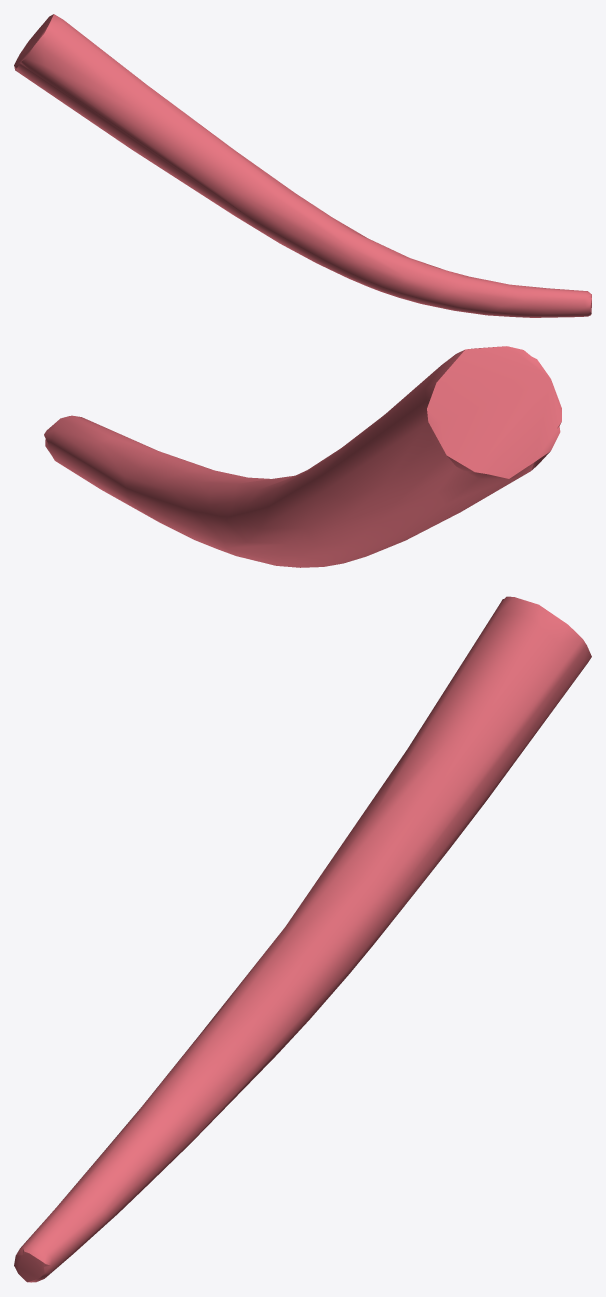
File: fma68137_fj5955.glb
The picture shows the model from 3 angles, top to bottom: view 1: azimuth 30°, elevation 25°; view 2: azimuth 150°, elevation 25°; view 3: azimuth 270°, elevation 25°; orthographic projection. The views are drawn at different scales.
Parts seen in each view (by area): view 1: FMA68137_FJ5955; view 2: FMA68137_FJ5955; view 3: FMA68137_FJ5955.
Part boxes in pixels (x1,y1,x2,y2): FMA68137_FJ5955: (14, 14, 591, 317); FMA68137_FJ5955: (44, 346, 561, 567); FMA68137_FJ5955: (14, 596, 591, 1282).
Size of the model in its own units: 0.0373 by 0.0231 by 0.0297.
